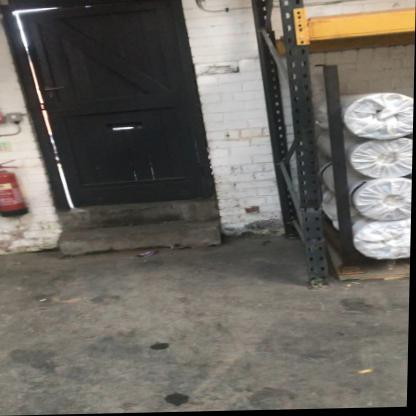vertical_damage: (292, 179, 331, 236)
